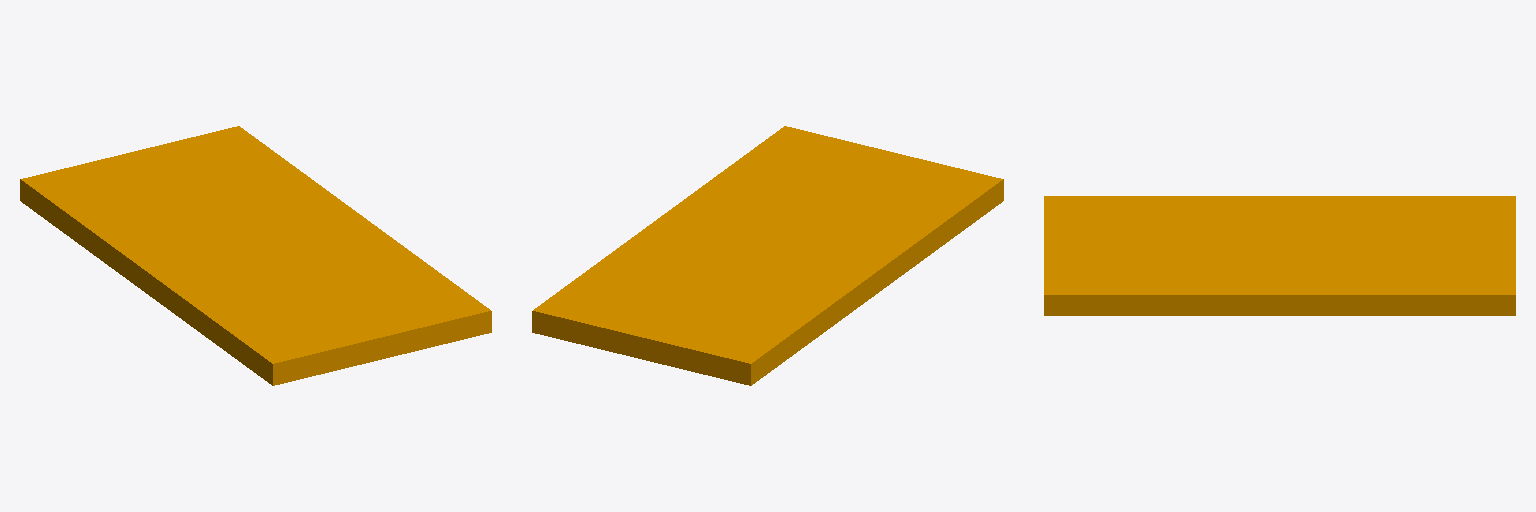
The robot description file, URDF, robot "platform":
<?xml version="1.0" encoding="utf-8"?>
  <!-- This models the wooden block and aluminium sheet over which the franka is
        mounted. We do not consider this for collisions. -->

<robot name="platform">
  <!-- Visual box to show the offset that connect franka to ground (table) -->
  <link name="platform">
     <visual>
        <origin xyz="-0.07 0 0" />
        <geometry>
           <box size="0.3 0.6 0.029"/>
        </geometry>
     </visual>
     <collision>
        <origin xyz="-0.07 0 0" />
        <geometry>
           <box size="0.3 0.6 0.029"/>
        </geometry>
     </collision>
  </link>
</robot>

--- What the picture shows (computed from the rendered views, not written in the file) ---
The picture shows the robot from 3 angles, left to right: view 1: azimuth 30°, elevation 25°; view 2: azimuth 150°, elevation 25°; view 3: azimuth 270°, elevation 25°; orthographic projection.
Model platform with 1 links and 0 joints (none), rooted at platform, posed every joint at zero.
Visible links, largest first — view 1: platform; view 2: platform; view 3: platform.
Boxes of the visible links, x1,y1,x2,y2 form: platform: (20, 126, 491, 385); platform: (532, 126, 1003, 385); platform: (1044, 196, 1515, 315).
Size in the robot's own frame: 0.3 by 0.6 by 0.029 metres.
Geometry: primitives only (box / cylinder / sphere), no mesh files.